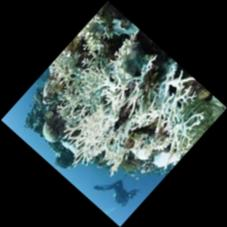bleached_corals: (4, 2, 226, 223)
